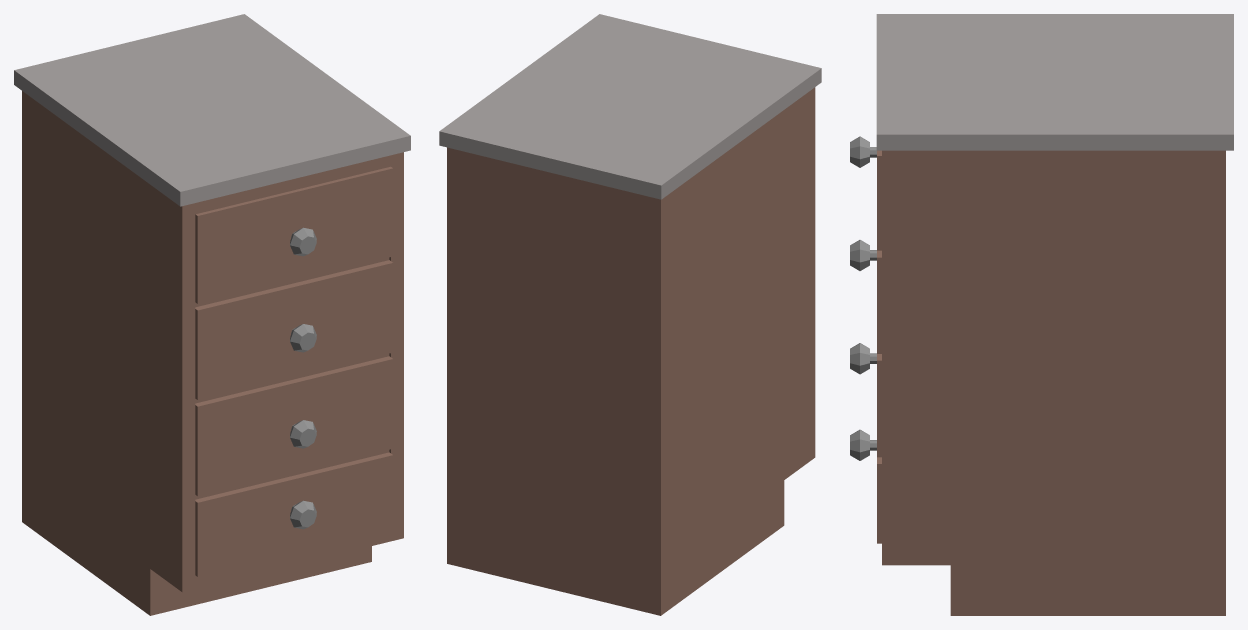
The model's file is Cabinet4Drawers.fbx.
3 renders of one model, left to right at view 1: azimuth 30°, elevation 25°; view 2: azimuth 150°, elevation 25°; view 3: azimuth 270°, elevation 25°, orthographic. The views are drawn at different scales.
Visible parts, largest first — view 1: Cabinet4Drawers, MiddleDrawer1, MiddleDrawer2, UpperDrawer, BottomDrawer; view 2: Cabinet4Drawers; view 3: Cabinet4Drawers, MiddleDrawer2, MiddleDrawer1, UpperDrawer, BottomDrawer.
Part boxes in pixels (x1,y1,x2,y2): Cabinet4Drawers: (14, 14, 410, 615); MiddleDrawer1: (195, 260, 393, 399); MiddleDrawer2: (195, 356, 393, 496); UpperDrawer: (195, 166, 393, 303); BottomDrawer: (195, 452, 393, 576); Cabinet4Drawers: (439, 14, 821, 615); Cabinet4Drawers: (876, 14, 1233, 615); MiddleDrawer2: (850, 343, 881, 457); MiddleDrawer1: (850, 240, 881, 353); UpperDrawer: (850, 136, 881, 250); BottomDrawer: (850, 429, 881, 543).
Size of the model in its own units: 48.63 by 65.33 by 90.81.
